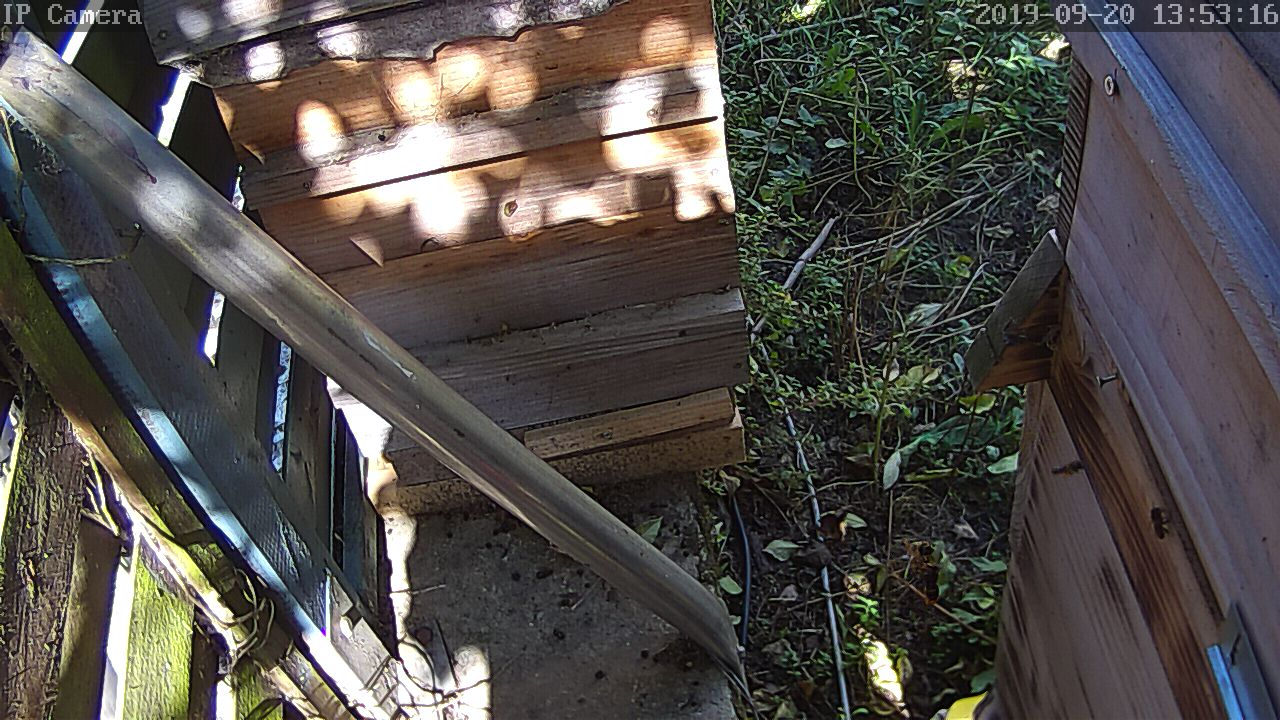bee: (1147, 498, 1170, 543)
hornet: (904, 537, 946, 607)
